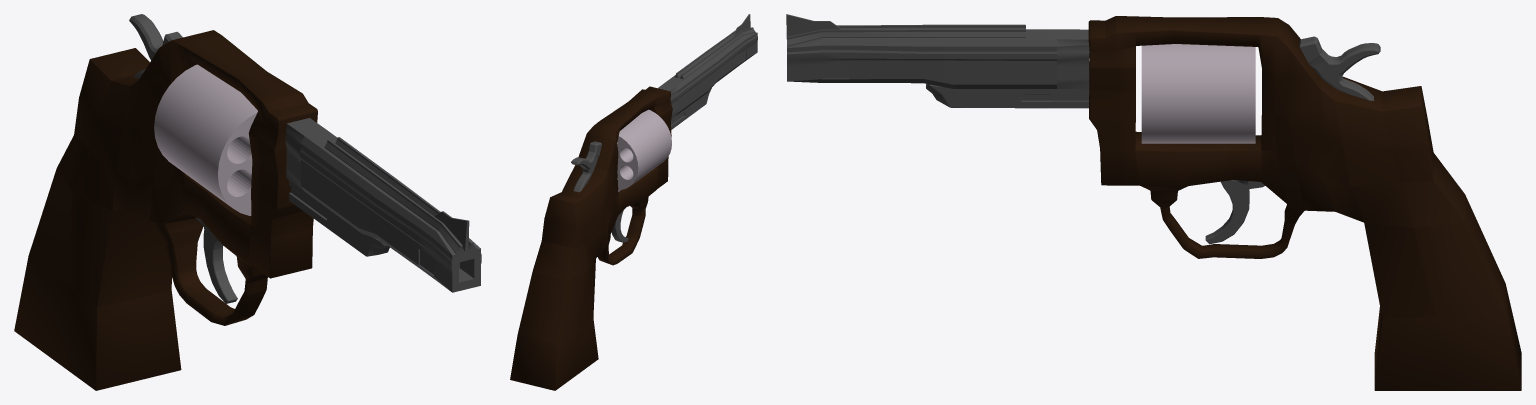
The model's file is revolver (2).fbx.
3 views of the same model, side by side, from view 1: azimuth 30°, elevation 25°; view 2: azimuth 150°, elevation 25°; view 3: azimuth 270°, elevation 25° (orthographic). The views are drawn at different scales.
Visible parts, largest first — view 1: kabza.001, frontside.001, Cylinder.001, altfront.001, tetik.001, upper.001; view 2: kabza.001, frontside.001, Cylinder.001, upper.001, altfront.001, tetik.001; view 3: kabza.001, frontside.001, Cylinder.001, altfront.001, upper.001, tetik.001.
Part boxes in pixels (box(x1,y1,x2,y2)): kabza.001: box(14, 30, 317, 390); frontside.001: box(285, 118, 481, 292); Cylinder.001: box(154, 64, 257, 215); altfront.001: box(289, 180, 389, 256); tetik.001: box(195, 217, 237, 303); upper.001: box(129, 14, 182, 78); kabza.001: box(510, 86, 672, 390); frontside.001: box(658, 14, 757, 118); Cylinder.001: box(617, 109, 671, 191); upper.001: box(571, 141, 601, 192); altfront.001: box(671, 88, 711, 129); tetik.001: box(611, 210, 628, 242); kabza.001: box(1088, 16, 1521, 390); frontside.001: box(786, 14, 1089, 88); Cylinder.001: box(1141, 44, 1255, 143); altfront.001: box(926, 84, 1089, 108); upper.001: box(1299, 36, 1380, 100); tetik.001: box(1205, 180, 1264, 243).
Size of the model in its own units: 48.18 by 180 by 335.
